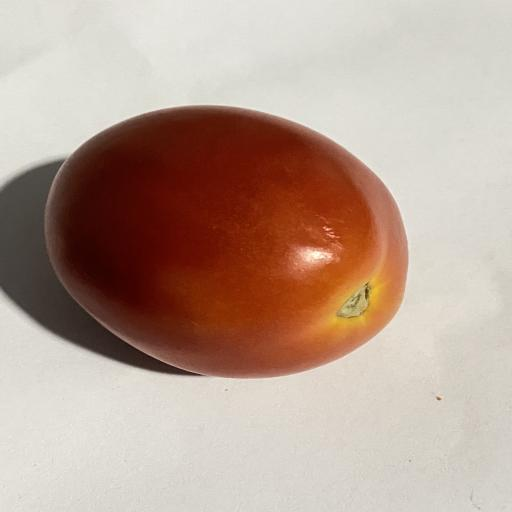ripe: (45, 106, 408, 378)
